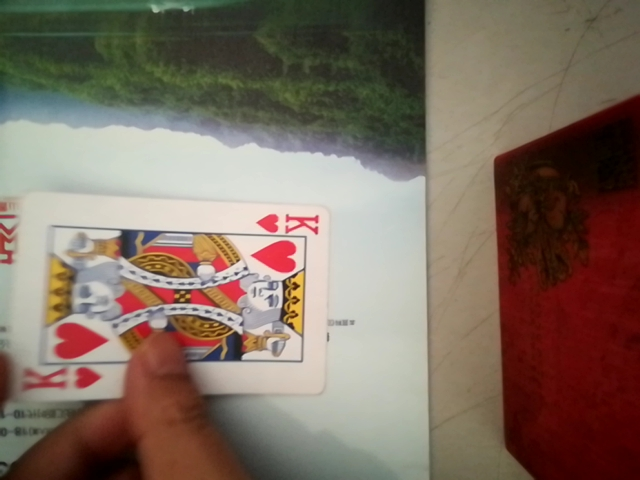hx k: (0, 193, 344, 407)
